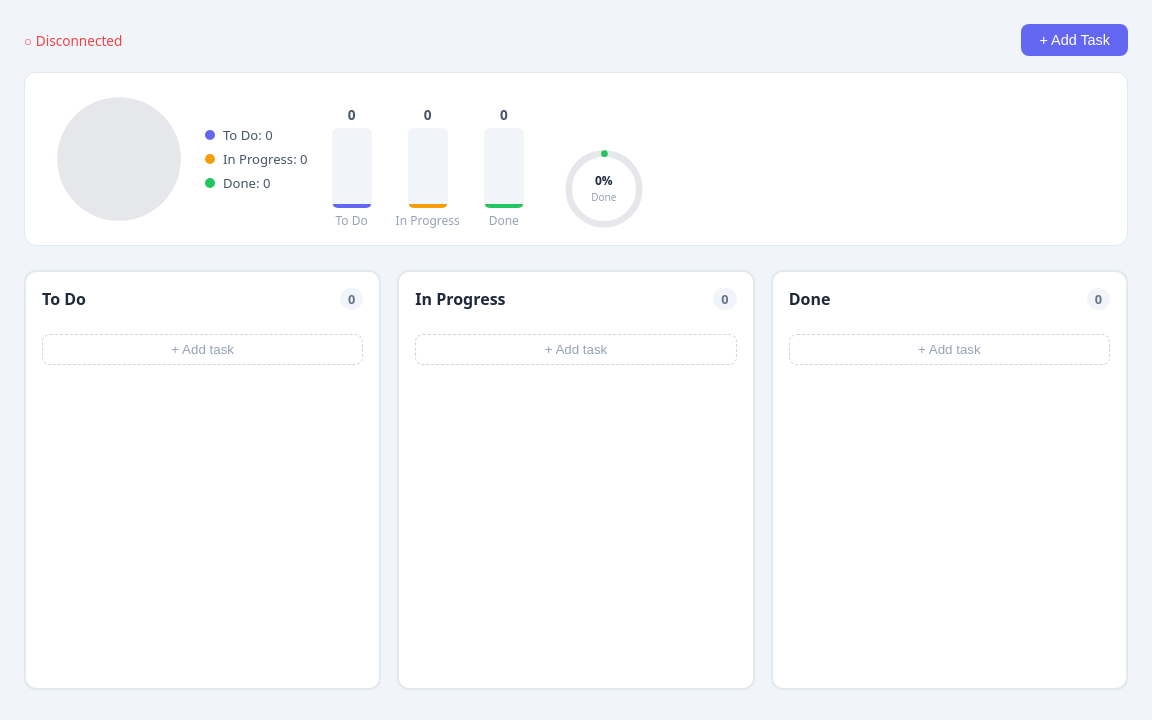
KanbanBoard › closes modal when Cancel is clicked
The width and height of the screenshot is (1152, 720).
Expected: the element with test id "column-todo" is shown, [24,270,381,690]
Click the button with test id "add-task-btn".
click(1075, 40)  # box [1022,24,1128,56]
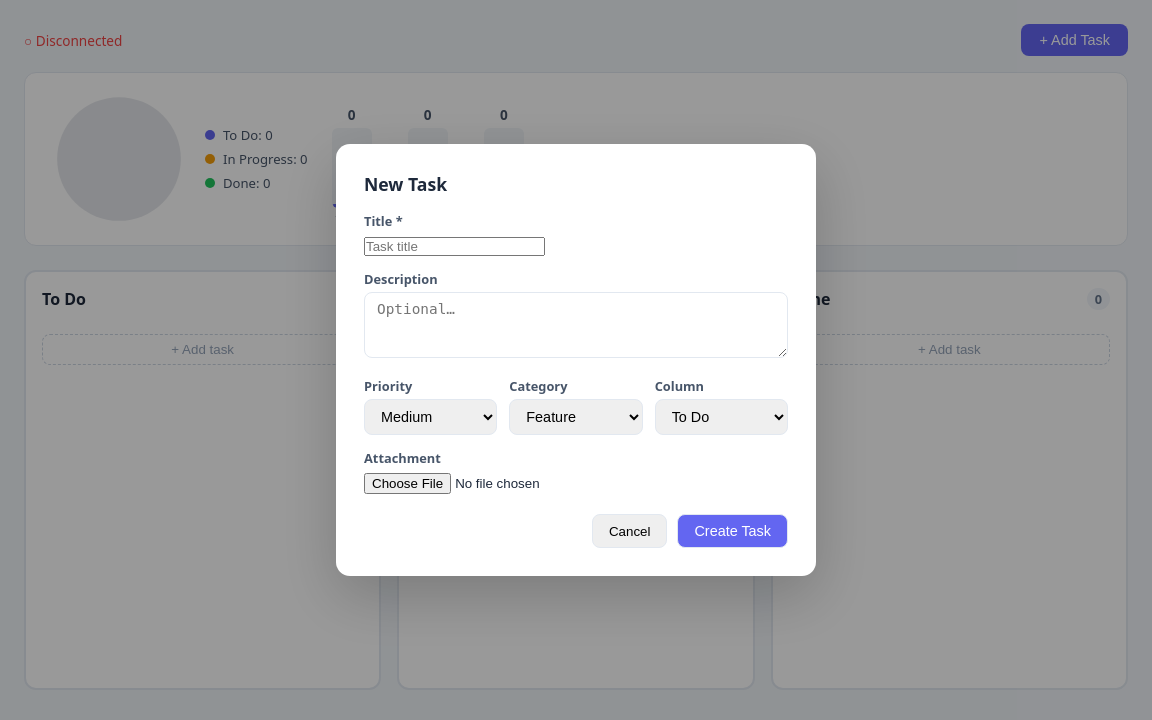
Click the button "Cancel".
click(630, 531)  # box [592,514,668,548]
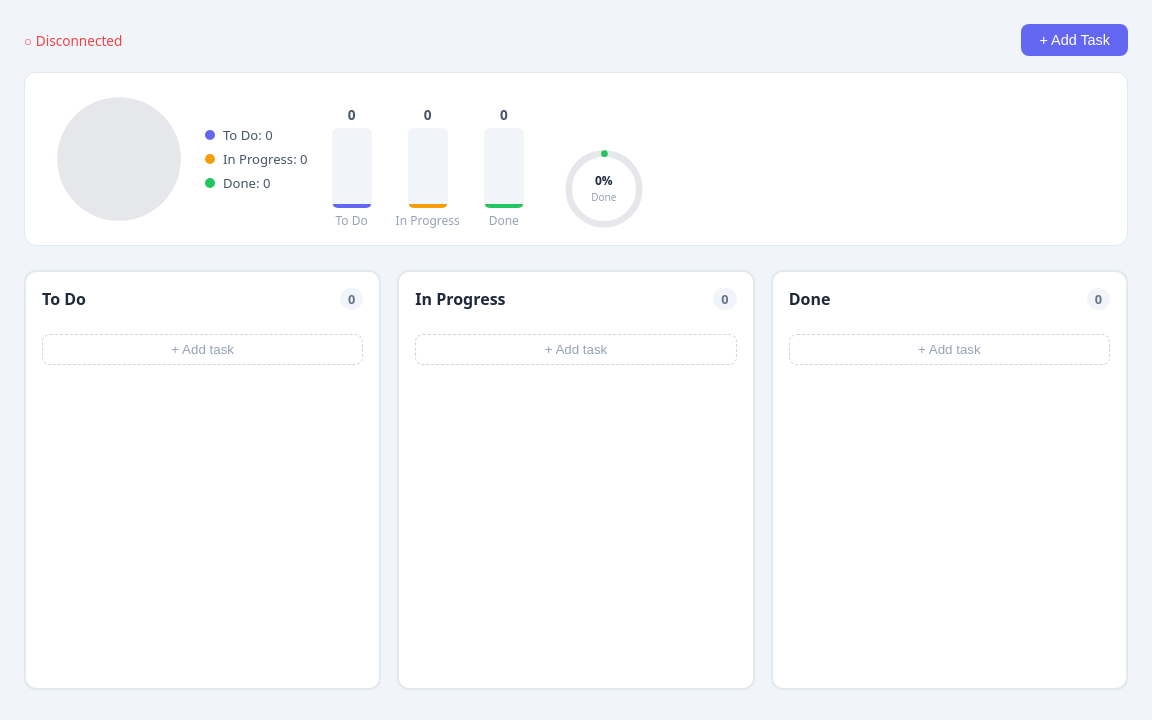
Expected: the element with test id "task-modal" is gone
